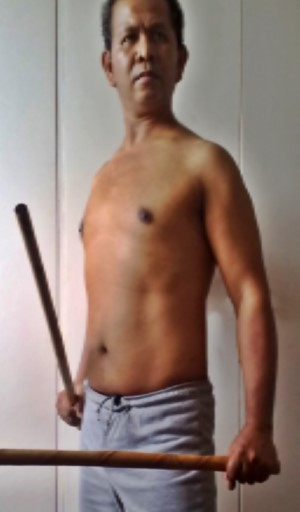baston_e: (13, 226, 74, 379), (4, 445, 222, 474)
baston_v: (9, 200, 32, 217), (271, 453, 284, 480)
